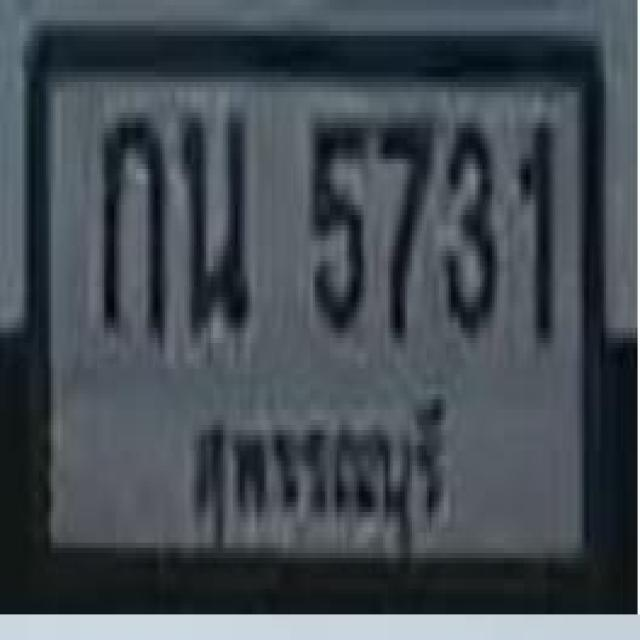license_plate: (23, 24, 613, 596)
